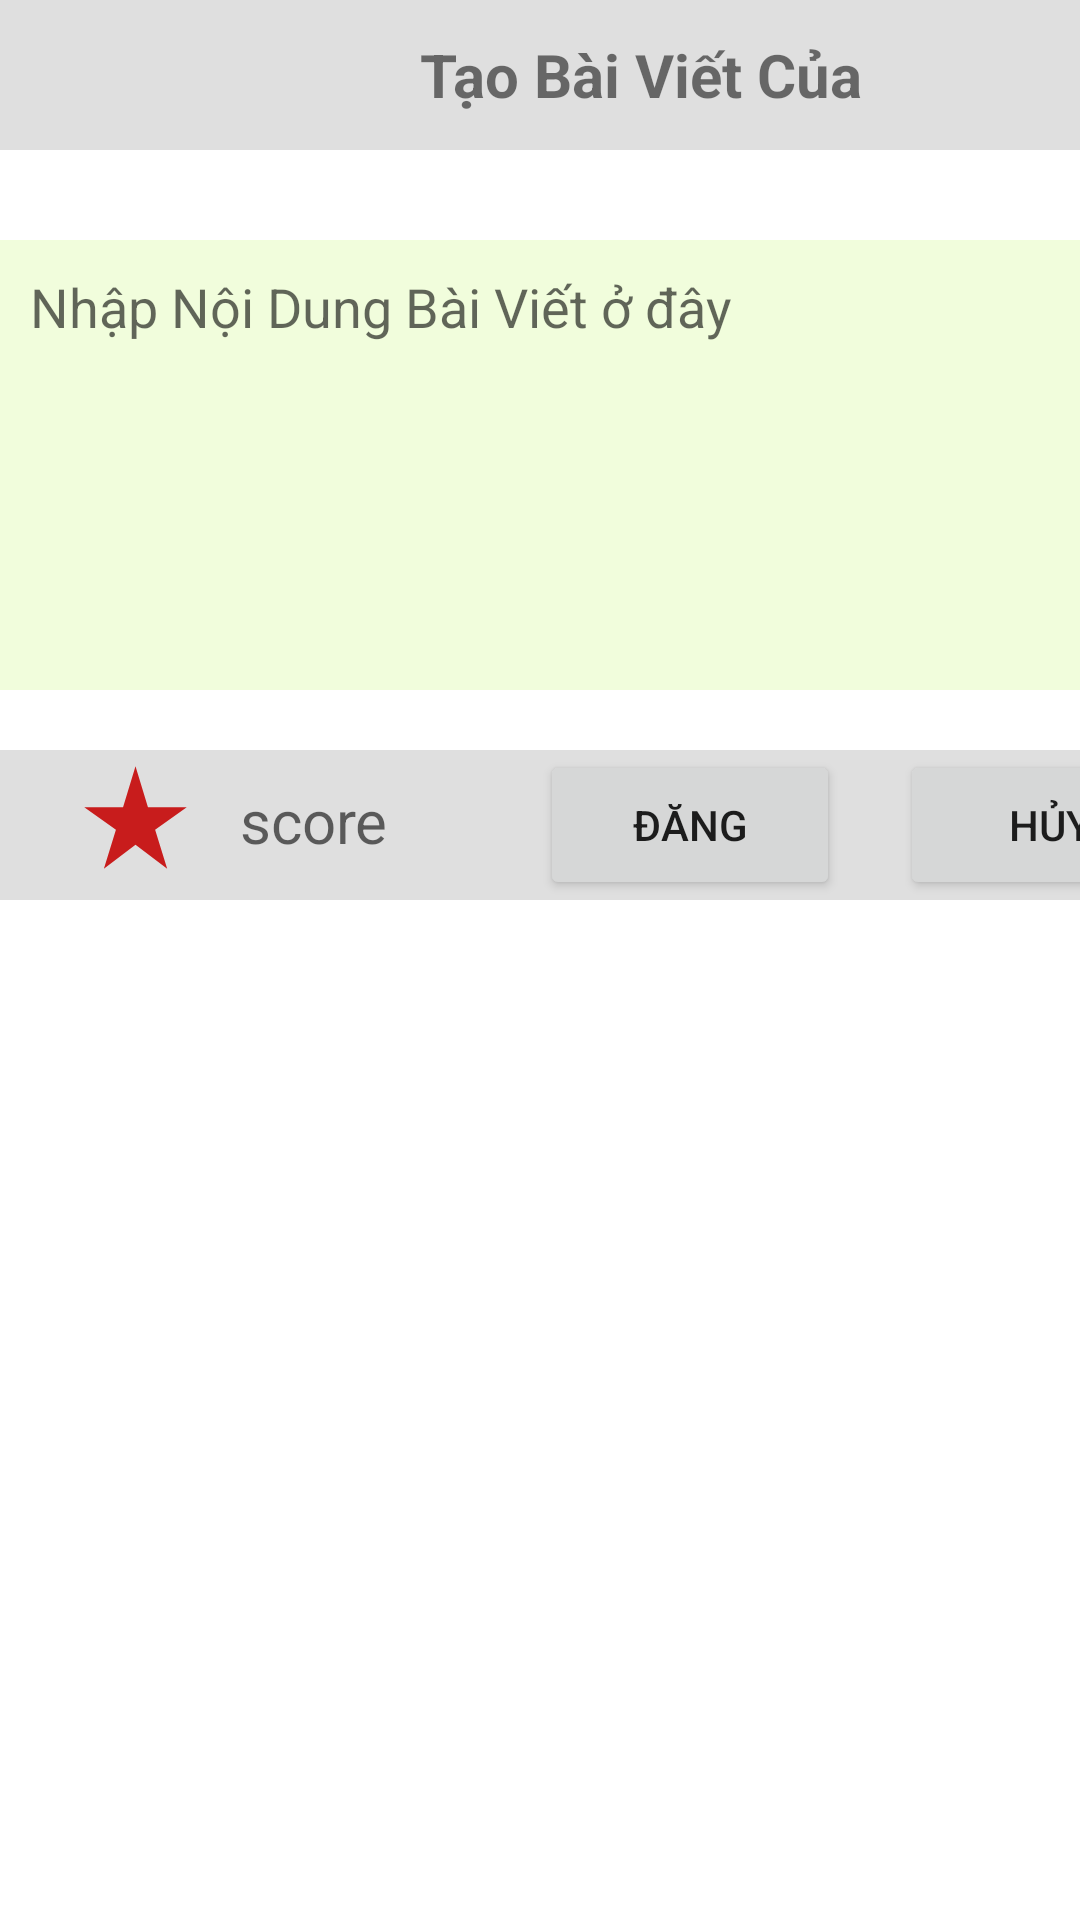

Screen size 1080*1920. Icon name, then its box in pixels as (x1, y1, x2, y2):
star rate: (84, 766, 187, 869)
